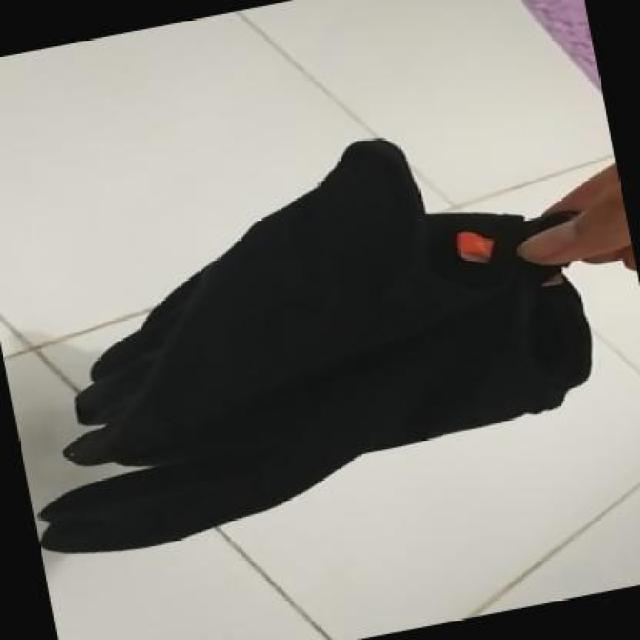gloves: (0, 95, 638, 575)
